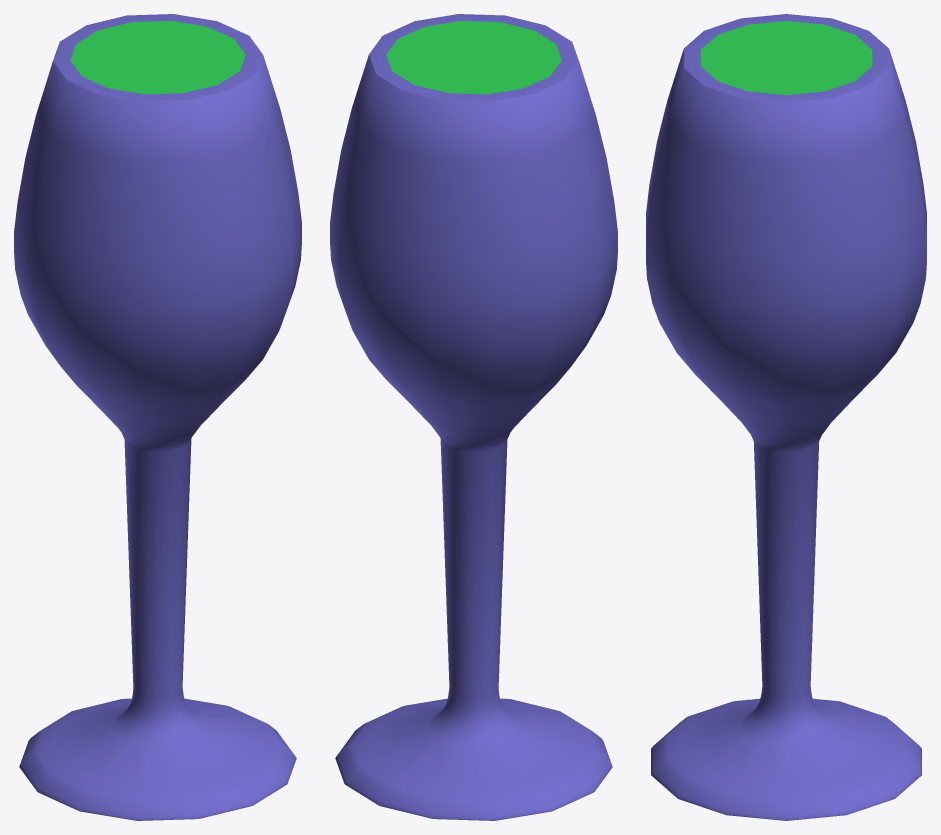
Rendered from toybox_wineglass.fbx.
The picture shows the model from 3 angles, left to right: view 1: azimuth 30°, elevation 25°; view 2: azimuth 150°, elevation 25°; view 3: azimuth 270°, elevation 25°; orthographic projection.
Parts seen in each view (by area): view 1: Outside, Inside; view 2: Outside, Inside; view 3: Outside, Inside.
Boxes of the visible parts, x1,y1,x2,y2 form: Outside: [14, 14, 301, 820]; Inside: [70, 21, 245, 94]; Outside: [330, 14, 617, 820]; Inside: [386, 21, 561, 94]; Outside: [646, 14, 926, 820]; Inside: [700, 21, 872, 95].
Size of the model in its own units: 11.4 by 30.73 by 11.11.
